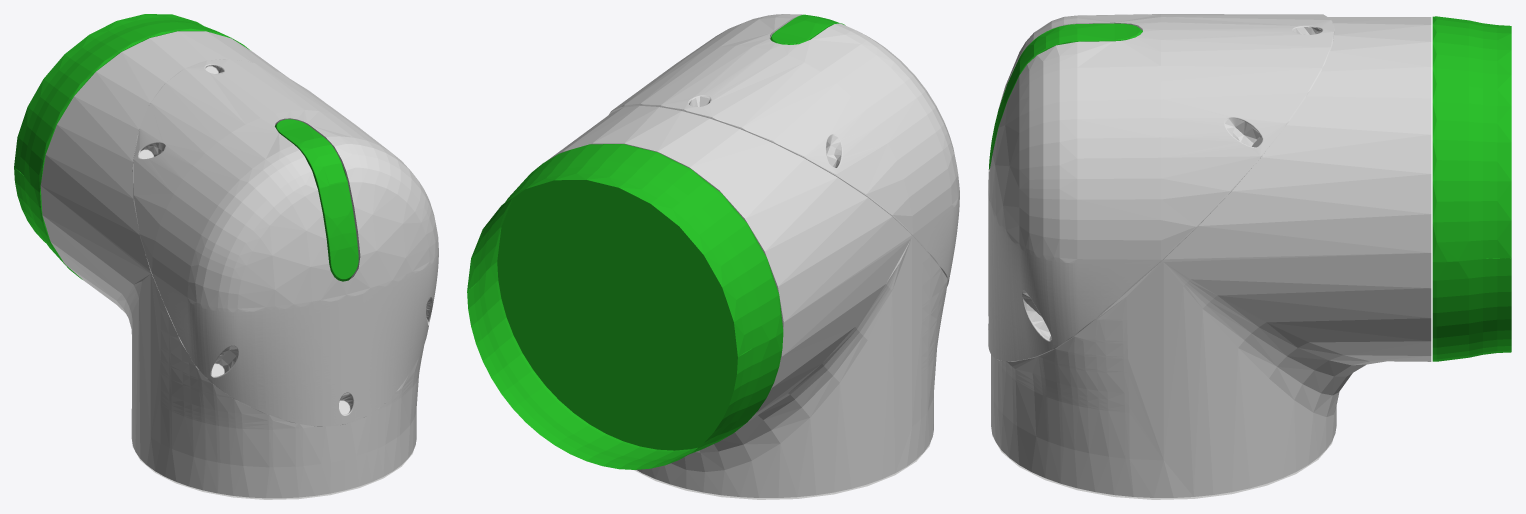
3 views of the same model, side by side, from view 1: azimuth 30°, elevation 25°; view 2: azimuth 150°, elevation 25°; view 3: azimuth 270°, elevation 25° (orthographic). The views are drawn at different scales.
Visible parts, largest first — view 1: node; view 2: node; view 3: node.
Boxes of the visible parts, x1,y1,x2,y2 form: node: [14, 14, 438, 499]; node: [467, 14, 959, 499]; node: [988, 14, 1511, 499].
Bounding box in the file's own units: 158 × 200 × 239.
